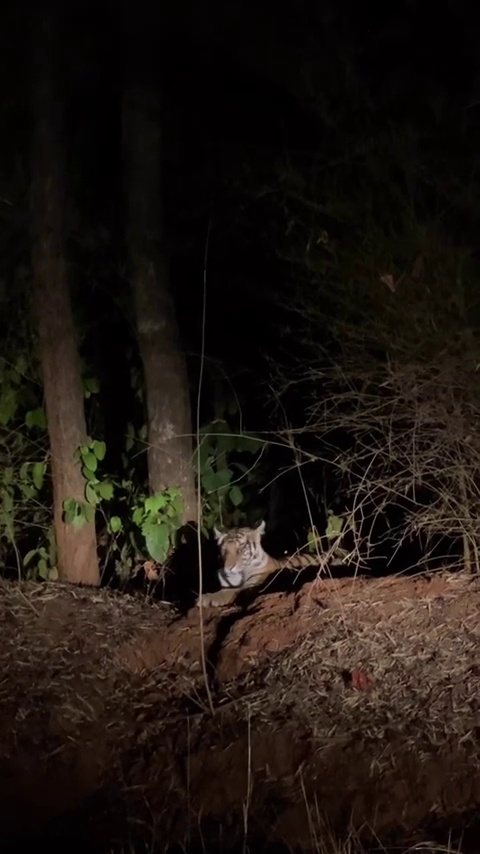Tiger: (194, 515, 350, 609)
